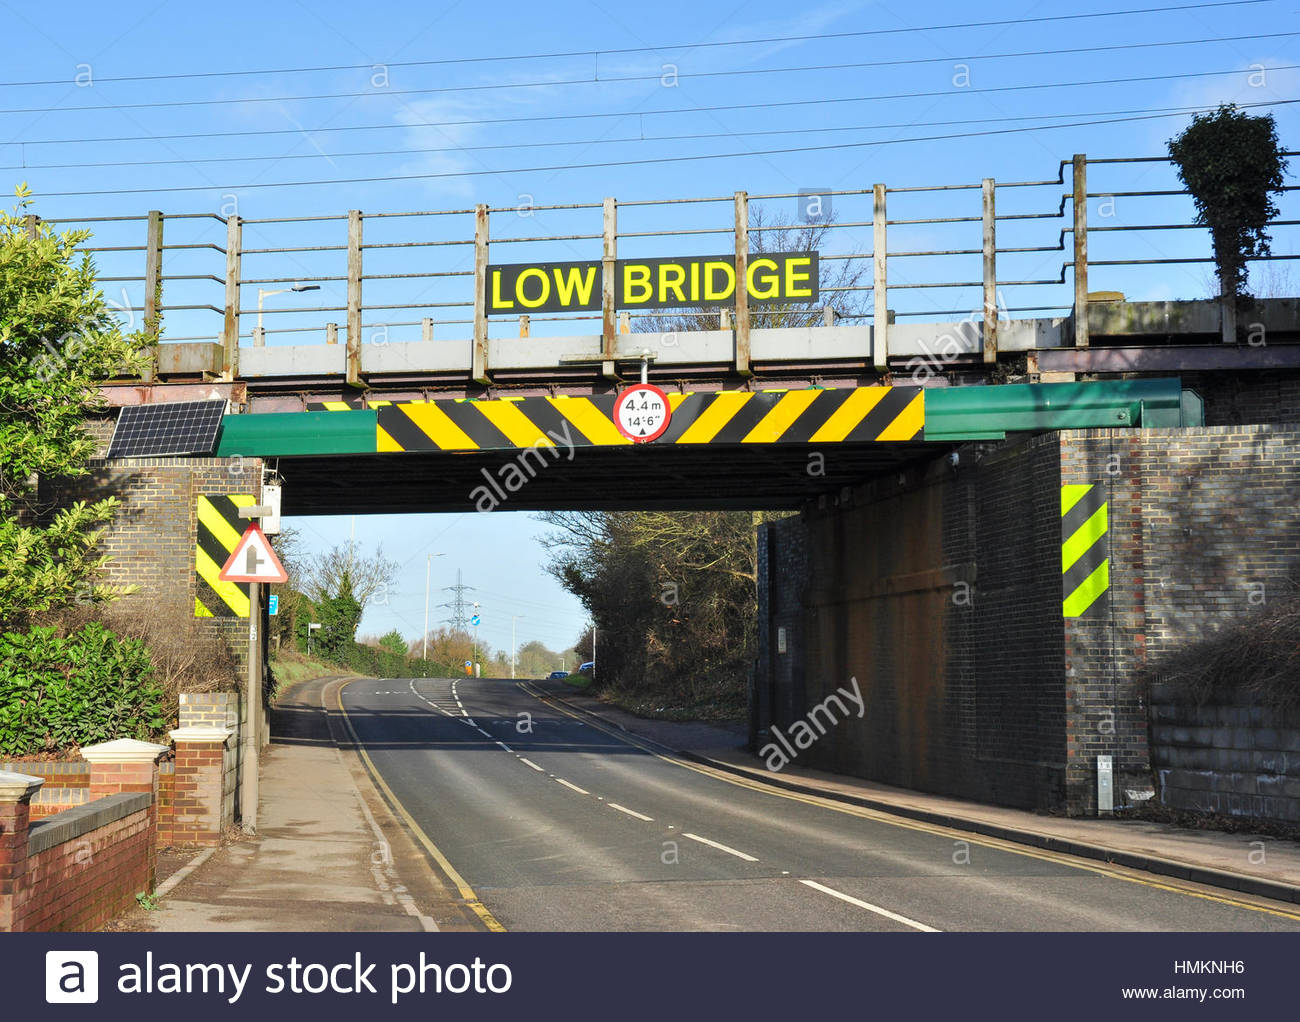bridge: (25, 158, 1090, 509)
